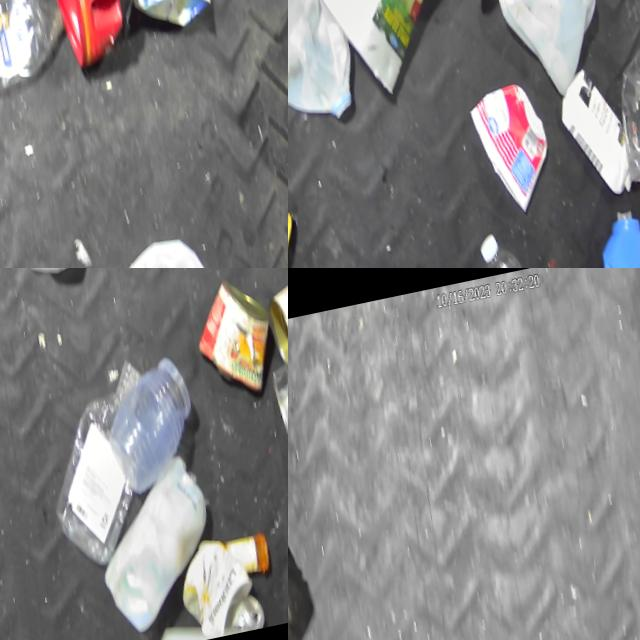can: (184, 268, 288, 405), (173, 525, 273, 640), (258, 326, 288, 549), (258, 268, 288, 379), (233, 589, 276, 634), (288, 197, 314, 268)
milk_jug: (83, 445, 241, 640), (480, 0, 623, 107), (288, 0, 375, 135)
non_white_jug: (30, 0, 156, 75), (115, 0, 225, 34), (597, 209, 640, 268)
plastic_bottle: (28, 354, 187, 572), (477, 218, 560, 268)
